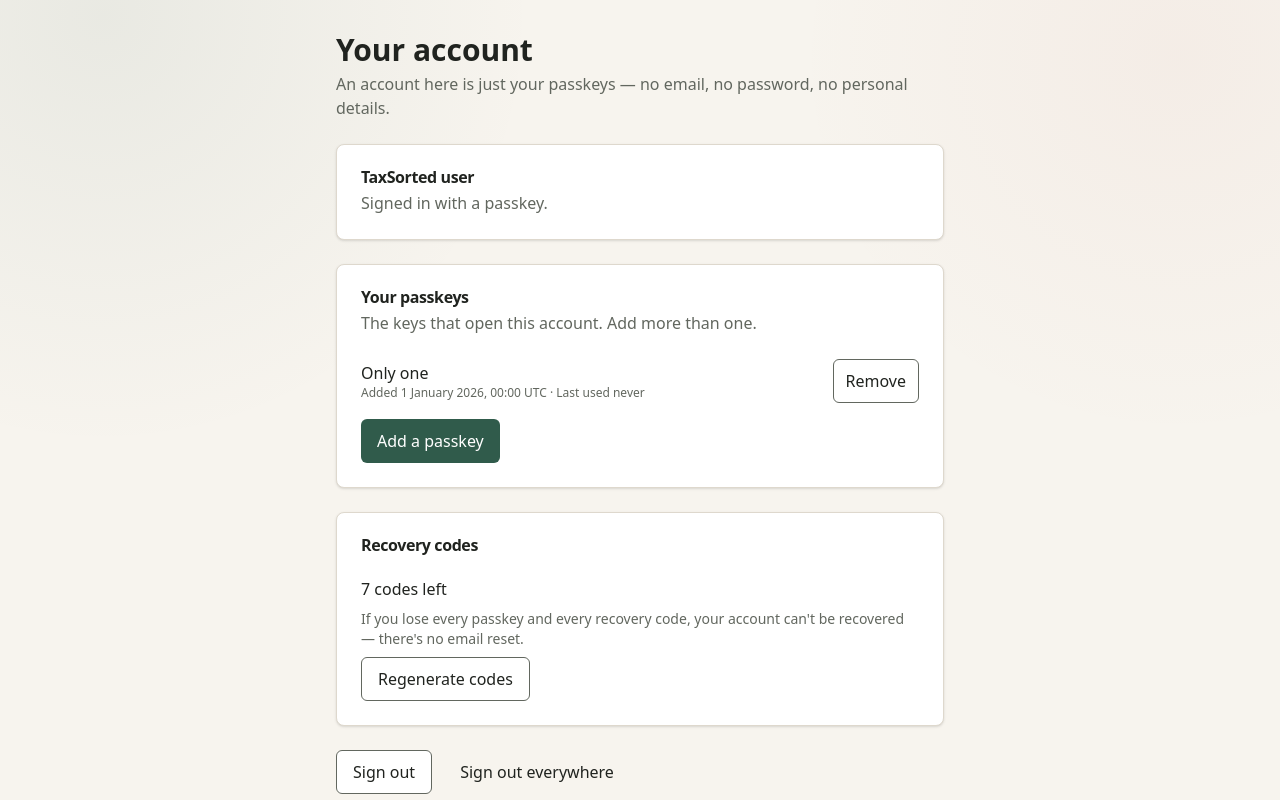
AccountClient › remove: surfaces the last_passkey 422 message verbatim
Click the button "Remove": [876, 381] box [832,359,919,403]
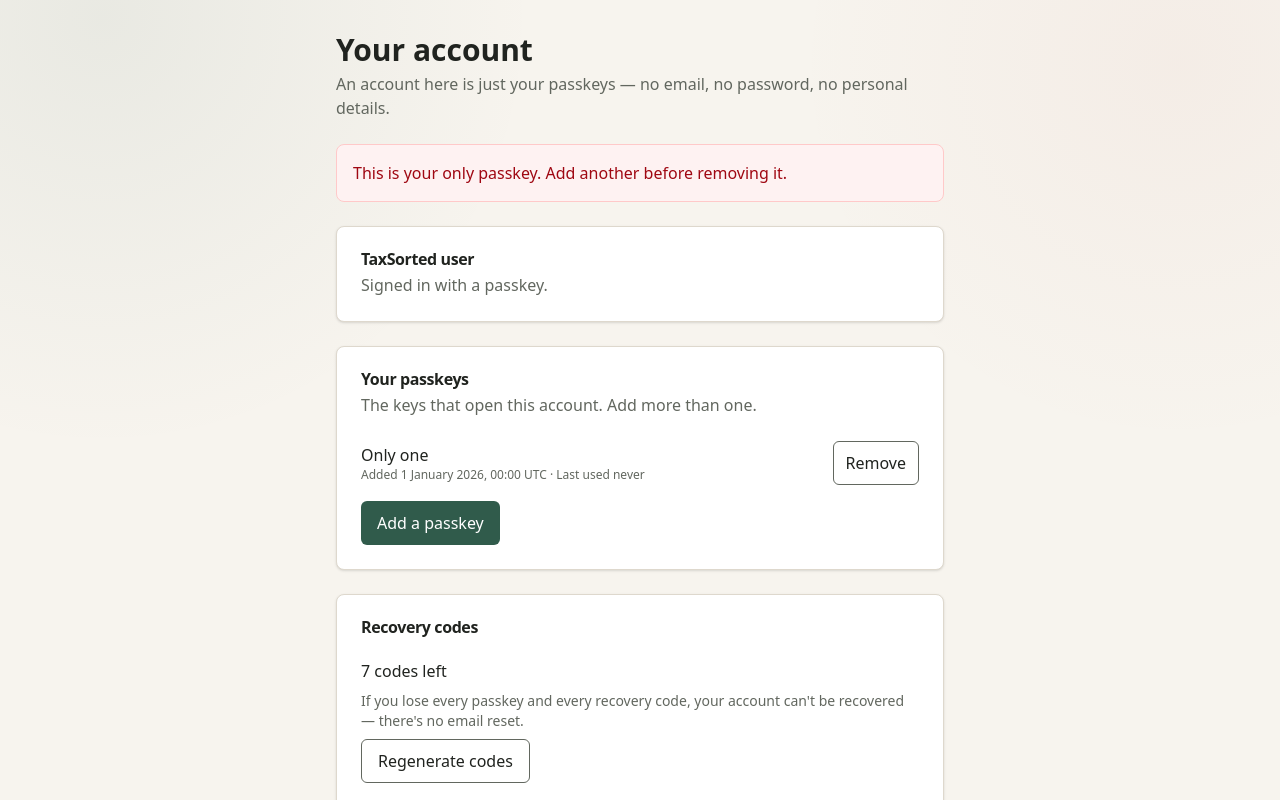
expect the text "This is your only passkey. Add another before removing it." is shown: met, box [353,162,787,184]
